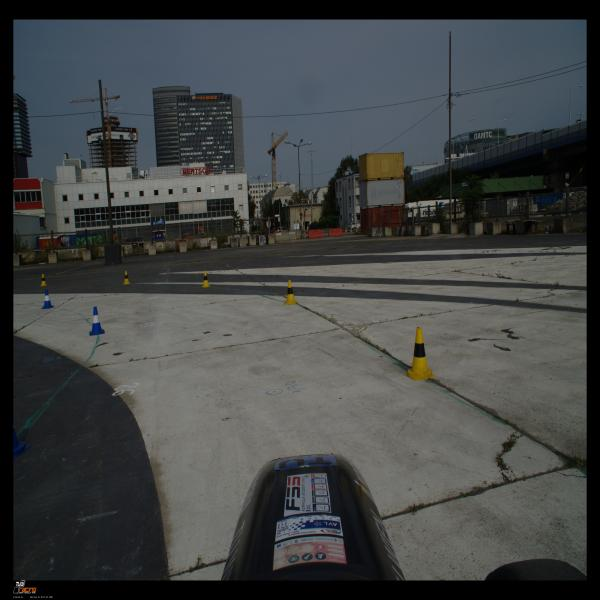blue_cone: (14, 424, 32, 459), (89, 307, 105, 336), (40, 290, 54, 309)
yellow_cone: (403, 327, 436, 381), (283, 280, 298, 305), (201, 271, 211, 287), (123, 270, 131, 284), (40, 274, 48, 286)
